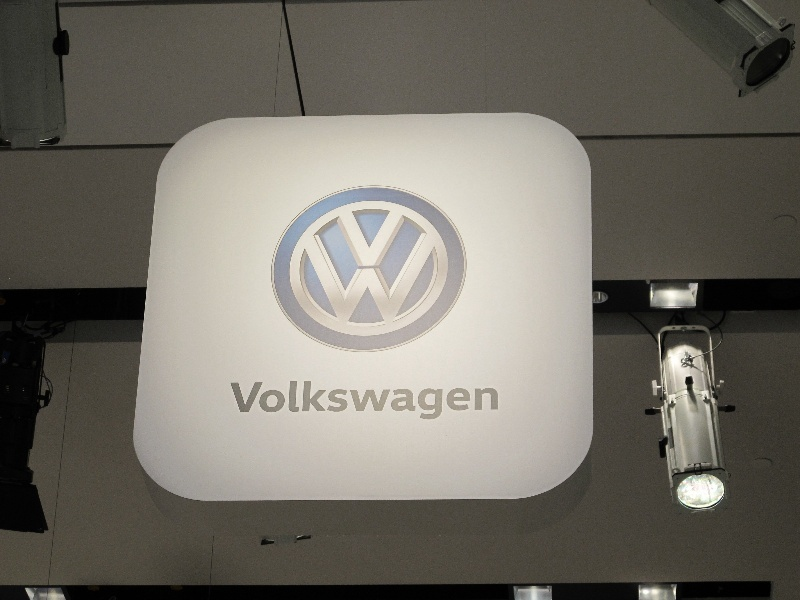text: (241, 380, 256, 423), (257, 380, 272, 423), (273, 380, 288, 423), (289, 380, 304, 423), (305, 380, 320, 423), (321, 380, 336, 423), (337, 380, 352, 423), (353, 380, 368, 423), (369, 380, 384, 423), (385, 380, 400, 423), (401, 380, 416, 423), (417, 380, 432, 423), (433, 380, 448, 423), (449, 380, 464, 423), (465, 380, 480, 423), (481, 380, 496, 423), (230, 380, 240, 423), (497, 380, 499, 423)
